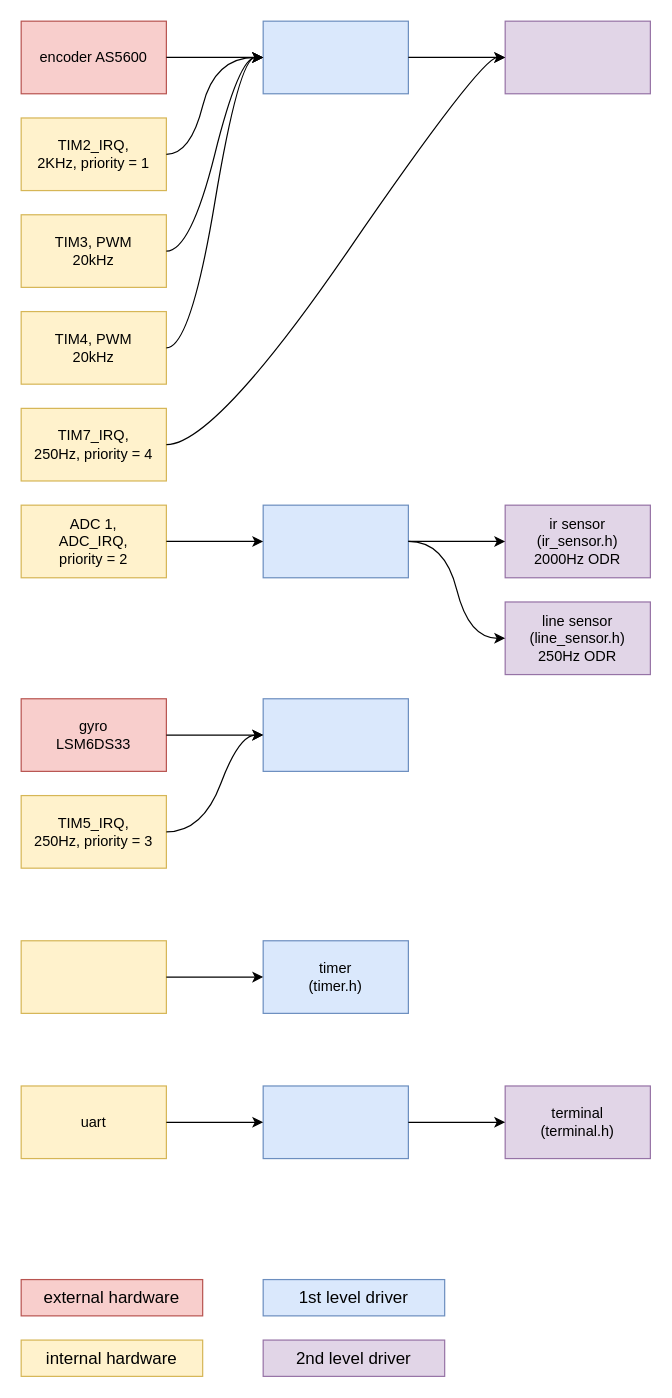
The diagram is 672 pixels wide and 1398 high, and some of its shapes have lost their labels. Each missing label, with the centre of its shape:
adc driver (adc.h): the point at 335,541
gyro (gyro.h): the point at 335,734
motor control (motor_control.h): the point at 335,57
position control (position_control.h) 250Hz ODR, LQR: the point at 577,57
SysTick_IRQ, 1000Hz, priority = 0: the point at 93,976
uart (uart.h): the point at 335,1122
